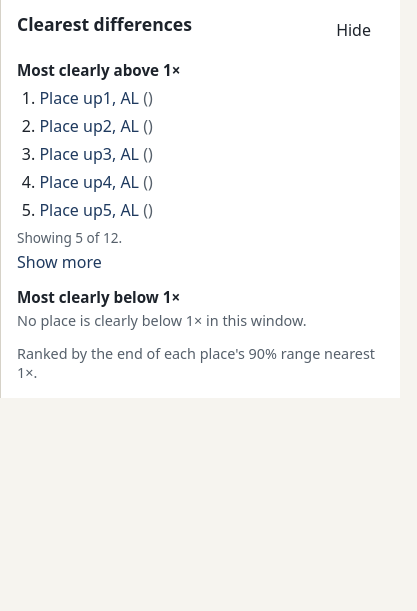
Test: Clearest differences: Show more › shows five, says how many there are, and adds the next five
Check: the element "Most clearly above 1×" shows "Showing 5 of 12.", box [17,228,122,247]
Check: the button "Show fewer" is not shown
Click the button "Show more": (59, 262) [17,249,102,275]
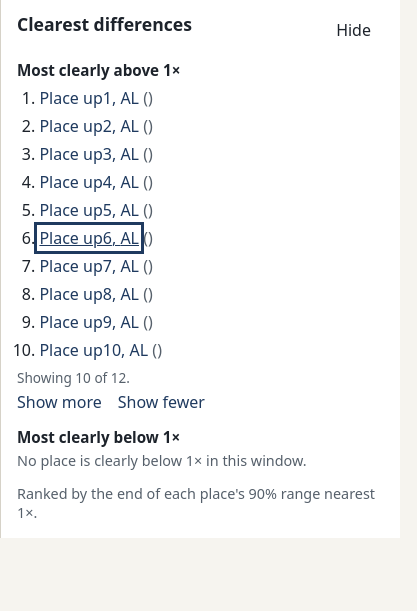
Check: the element "Most clearly above 1×" shows "Showing 10 of 12.", box [17,368,130,387]
Check: the button "Place up6, AL" is shown, box [39,227,139,249]
Check: the button "Show more" is expanded
The last two: all of them, and no more "Show more".
Click the button "Show more": (59, 402) [17,389,102,415]
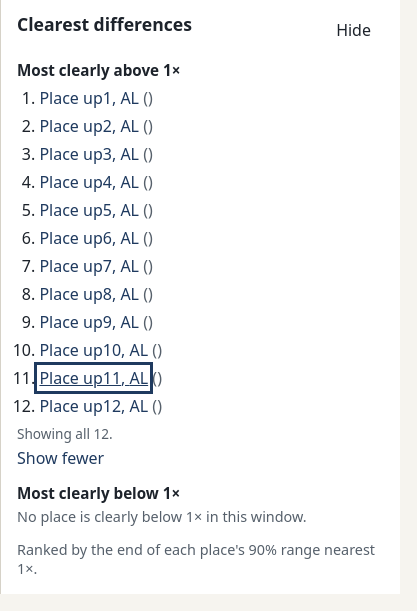
Check: the button "Place up12, AL" is shown, box [39,395,148,417]
Check: the element "Most clearly above 1×" shows "Showing all 12.", box [17,424,113,443]
Check: the button "Show more" is gone
